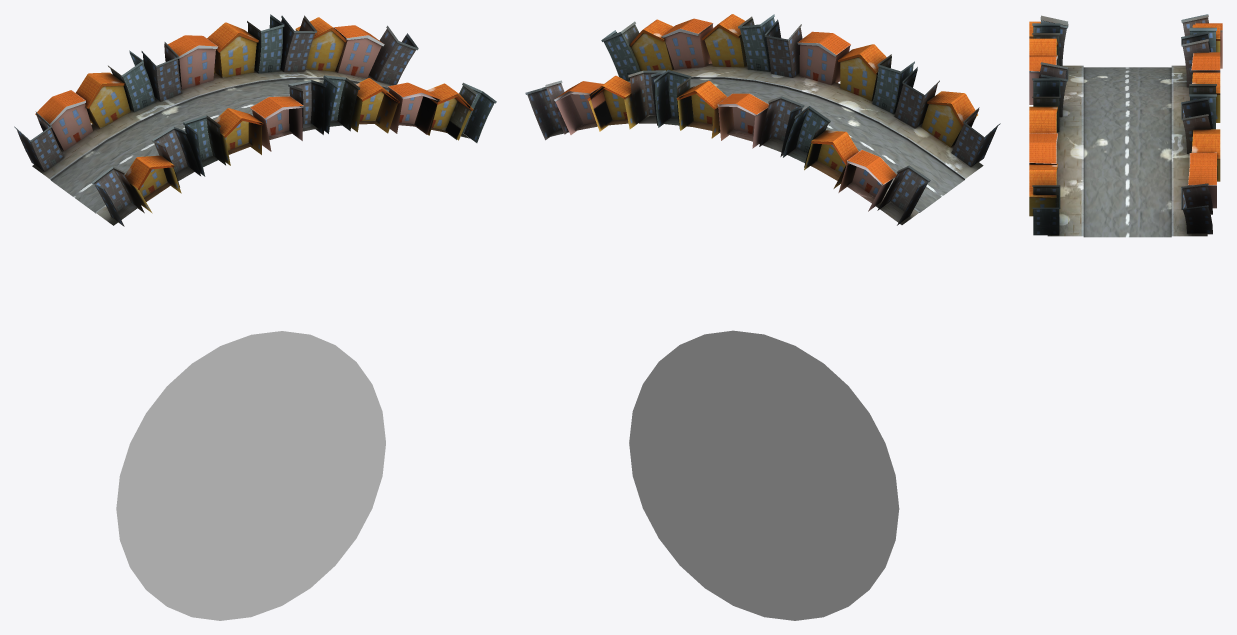
File: Level1_AmbCity_ModuloA.FBX
3 renders of one model, left to right at view 1: azimuth 30°, elevation 25°; view 2: azimuth 150°, elevation 25°; view 3: azimuth 270°, elevation 25°, orthographic. The views are drawn at different scales.
Visible parts, largest first — view 1: Circle003, modulo_strada_01, casette_04, casette_03, casette_01, casette_02; view 2: Circle003, modulo_strada_01, casette_01, casette_04, casette_02, casette_03; view 3: modulo_strada_01, casette_03, casette_02, casette_04, casette_01.
Part boxes in pixels (x1,y1,x2,y2): Circle003: (116,331,385,620); modulo_strada_01: (32,69,469,225); casette_04: (14,35,217,171); casette_03: (207,14,418,85); casette_01: (91,96,303,226); casette_02: (288,75,496,142); Circle003: (629,330,899,620); modulo_strada_01: (548,63,983,224); casette_01: (797,31,1000,166); casette_04: (717,93,930,225); casette_02: (601,14,802,80); casette_03: (525,69,726,140); modulo_strada_01: (1047,65,1207,237); casette_03: (1181,72,1220,234); casette_02: (1029,62,1068,235); casette_04: (1181,14,1222,87); casette_01: (1029,15,1068,104).
Size of the model in its own units: 222 by 301 by 96.27.
